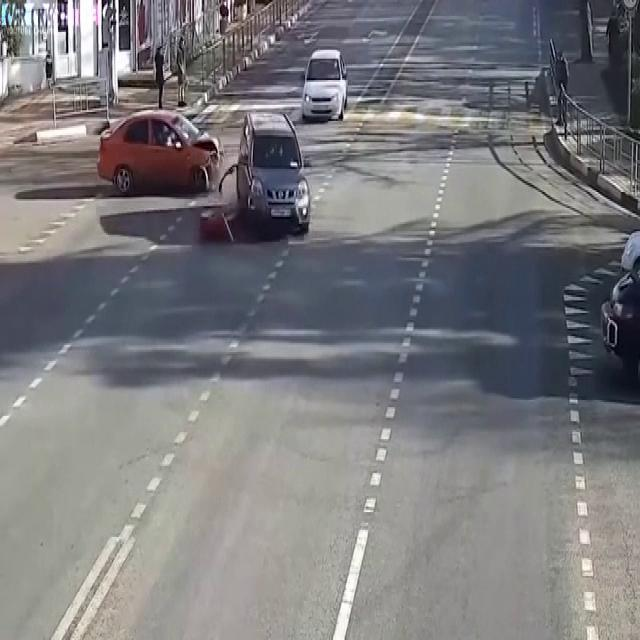accident: (182, 114, 273, 250)
